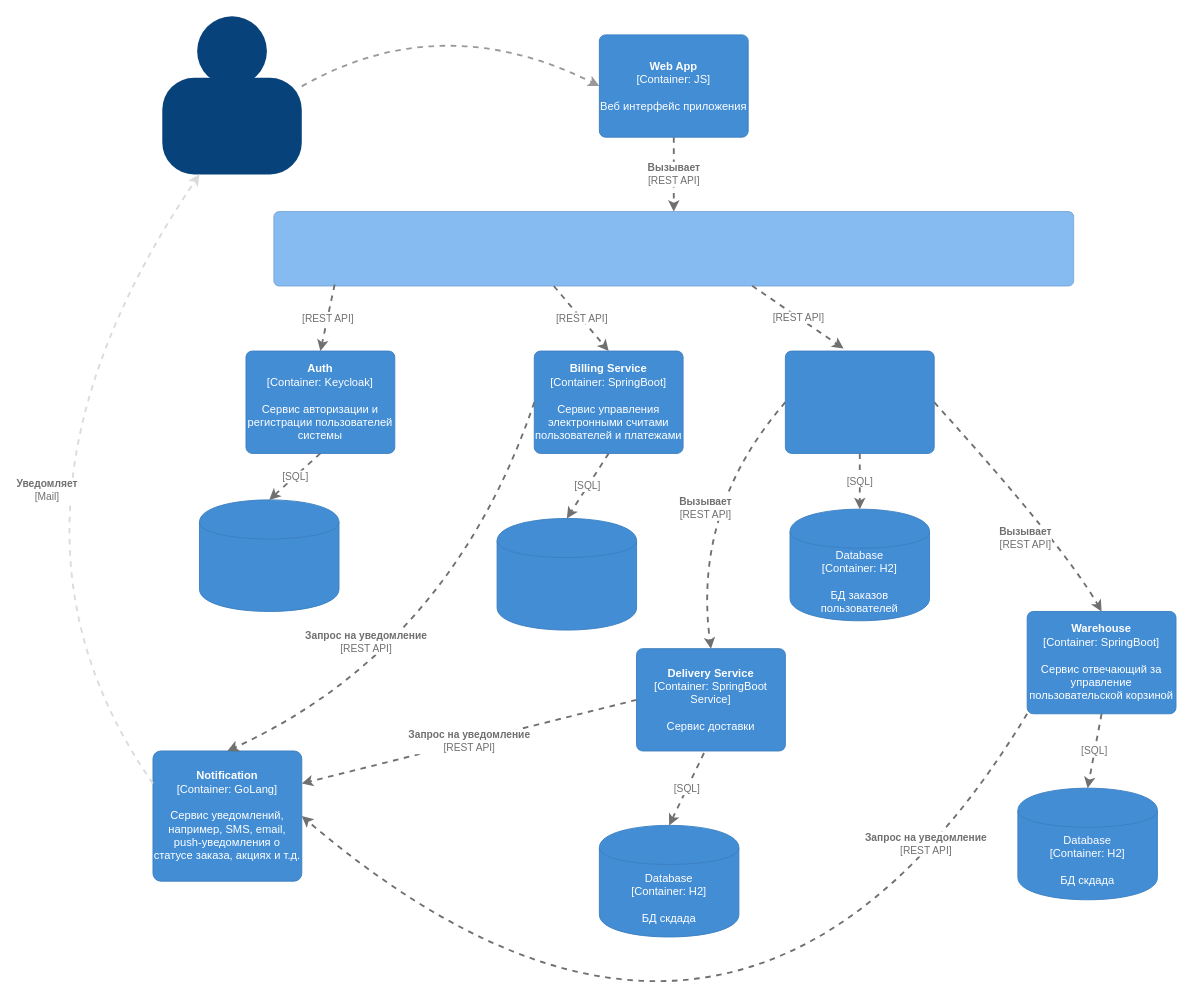
The diagram is 1192 pixels wide and 999 high, and some of its shapes have lost their labels. Here are the shapes that lost their labels. From the top down, the centre of each, then its label:
At point (231, 125): "Пользователь [Person] Клиент приложения".
At point (673, 248): "API Gateway [Component: Python ]".
At point (859, 401): "Order Service [Container: SpringBoot ] Сервис обработки заказов".
At point (269, 555): "Database [Container: PostgeSQL] БД пользователей".
At point (566, 574): "Database [Container: H2] Счета пользователей".
